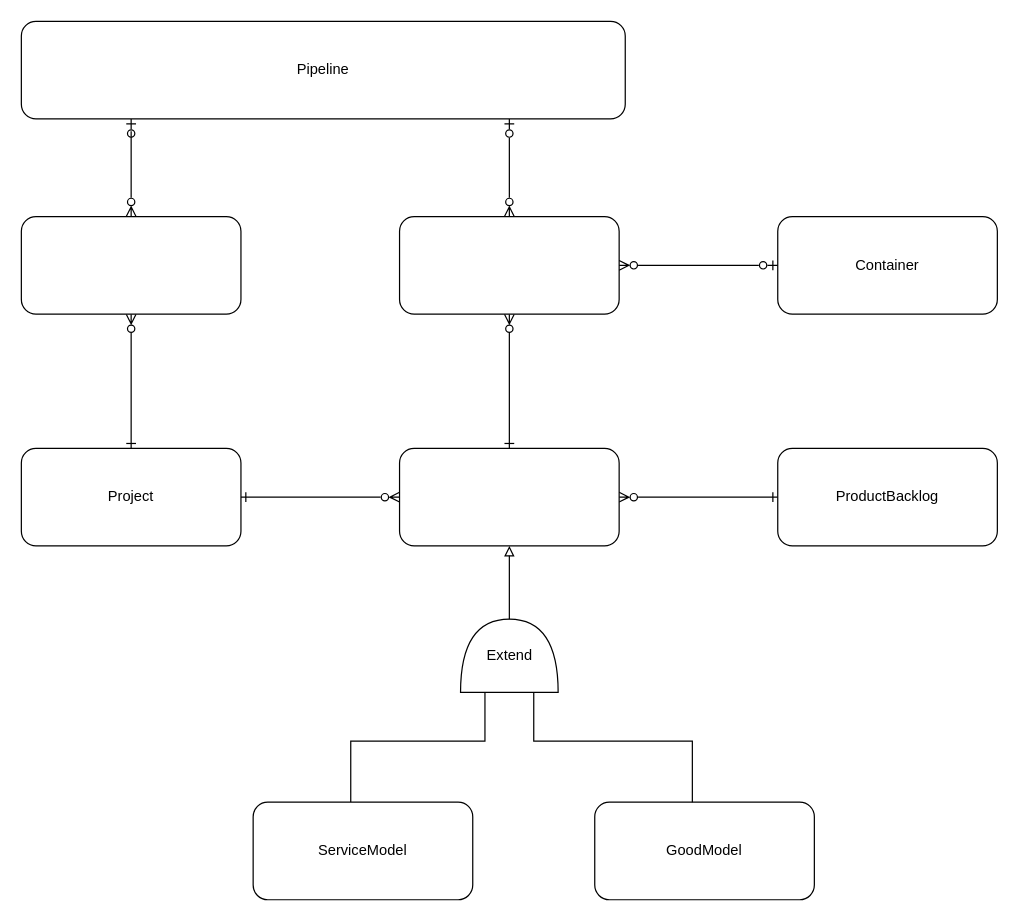
Image size: 1019x921. Some labels were removed from this diagram. The shapes that lost their labels are listed below. From the top down, each one's centre as x and y in pixels, then its label:
At (130,264): "Build".
At (508,264): "Deployment".
At (508,496): "Product".
